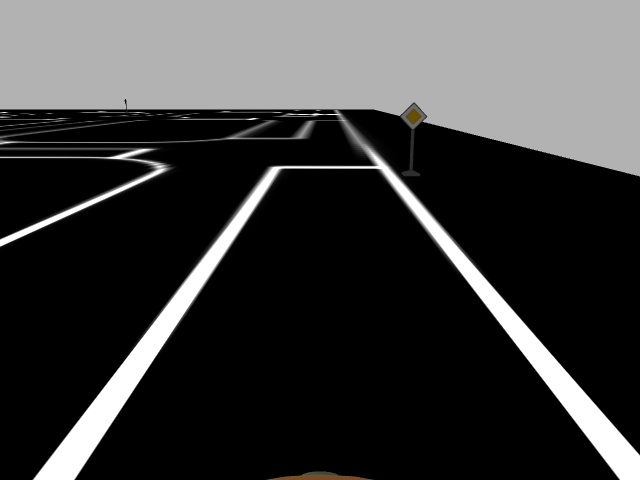priority: (398, 102, 429, 130)
